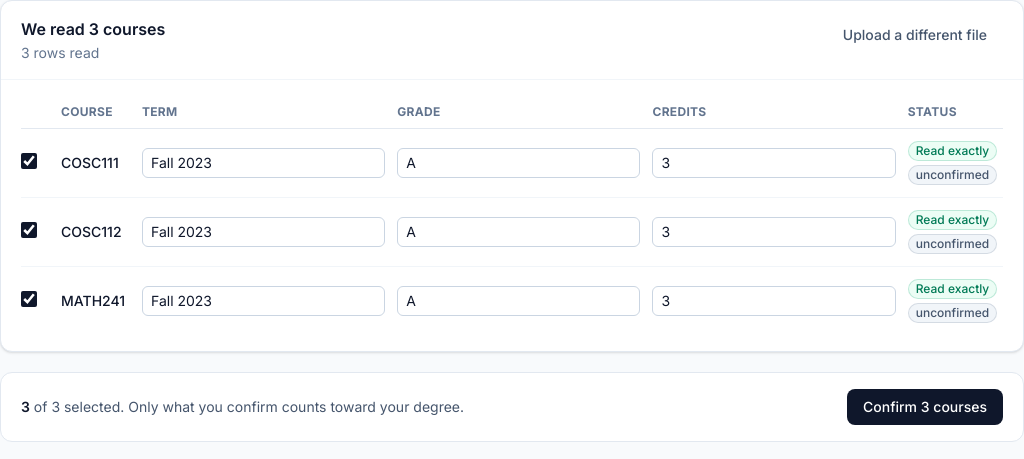
Test case: ReviewStep › updates the count and button text when a row is unticked
This screenshot has width=1024, height=459.
Click the checkbox next to "COSC112" at (29,230), box top-left (21, 222), bottom-right (37, 238)
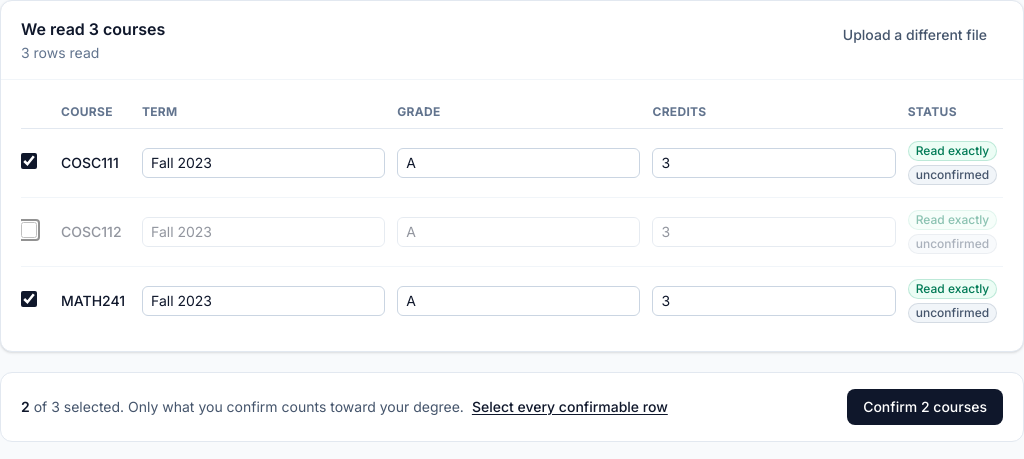
expect the checkbox next to "COSC112" is not checked: met, box top-left (21, 222), bottom-right (37, 238)
expect the button "Confirm 2 courses" is shown: met, box top-left (847, 389), bottom-right (1003, 425)
Click the checkbox next to "MATH241" at (29,298), box top-left (21, 290), bottom-right (37, 306)
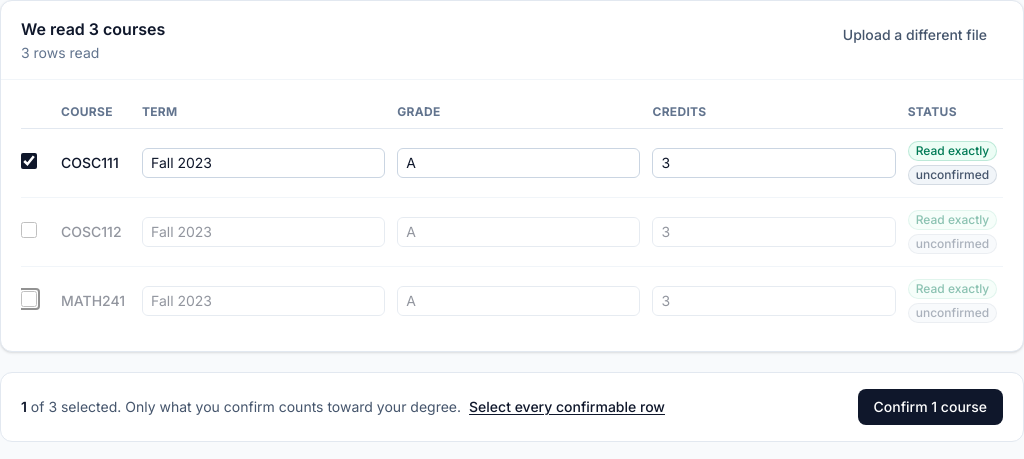
expect the button "Confirm 1 course" is shown: met, box top-left (858, 389), bottom-right (1003, 425)
